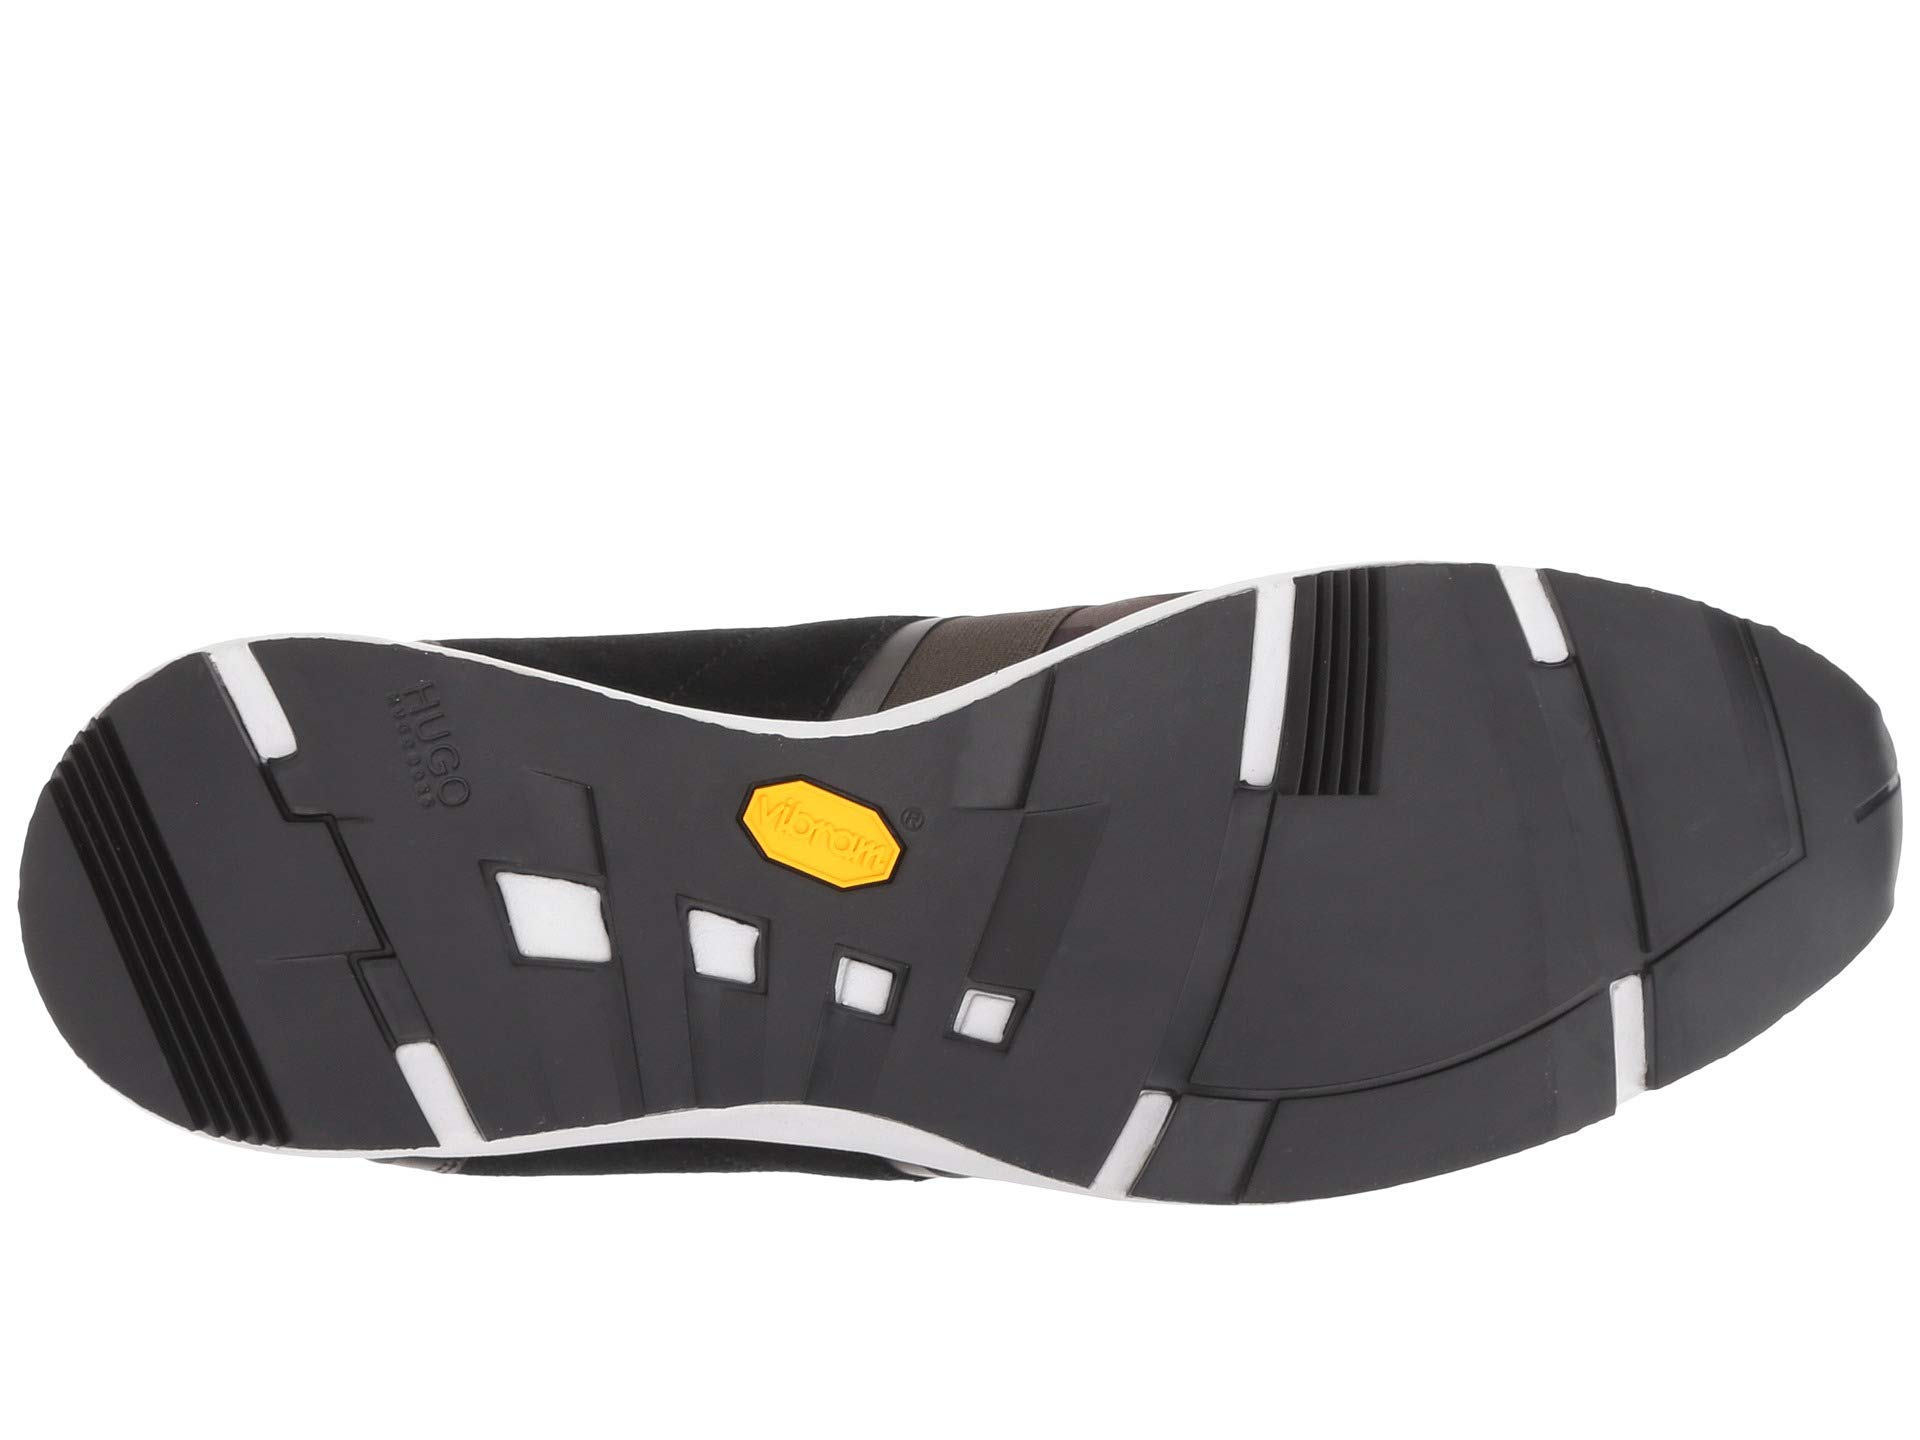circle: (674, 753, 918, 1012), (308, 646, 528, 830)
line: (1200, 610, 1451, 839), (45, 839, 277, 1062)
polygon: (674, 753, 918, 1012)
quad: (674, 753, 918, 1012), (437, 836, 632, 1056), (952, 930, 1138, 1088)
text: (674, 753, 918, 1012), (308, 646, 528, 830)
